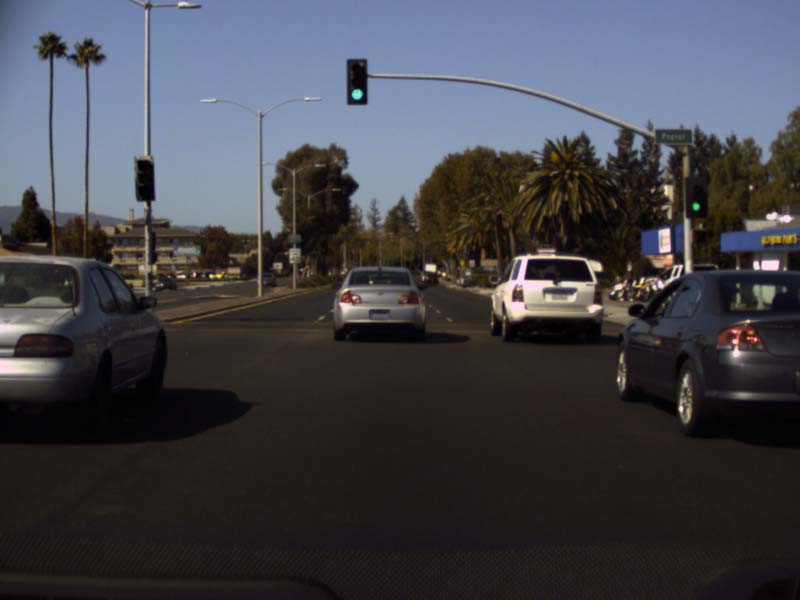Green: (346, 59, 366, 104), (685, 176, 706, 218)
